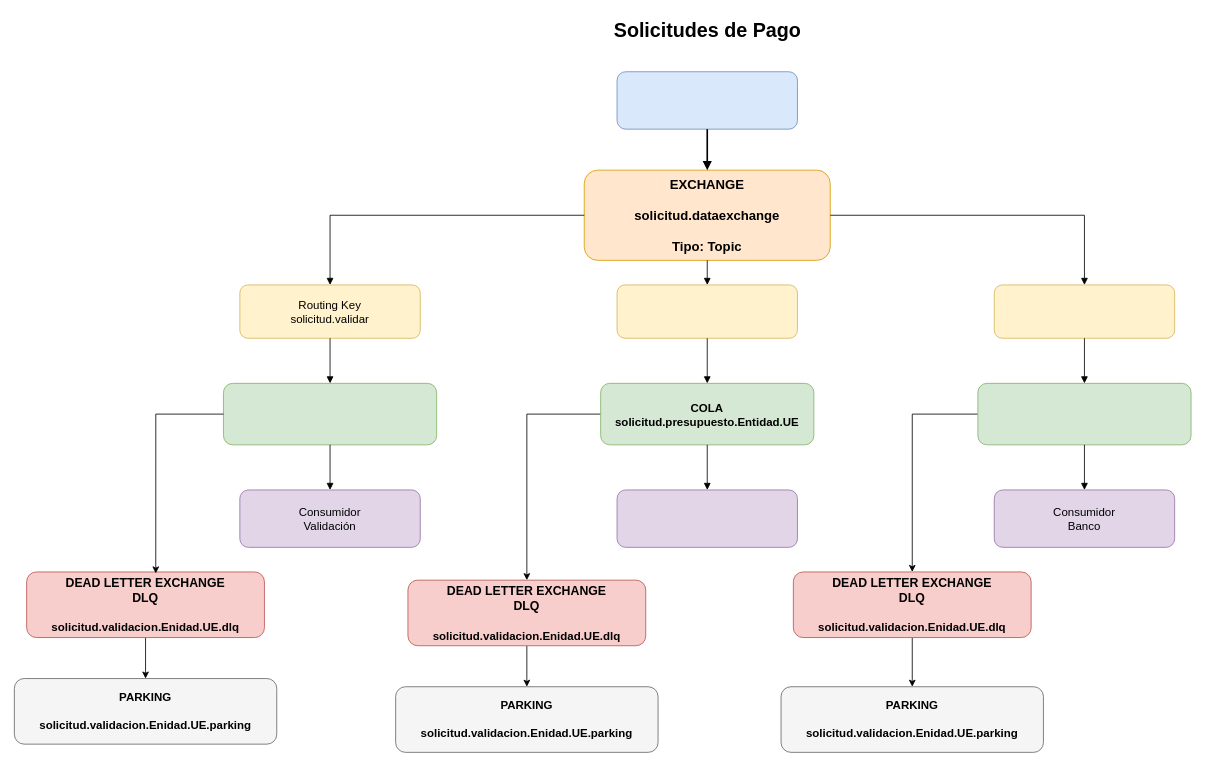
Image size: 1205x767. Some labels were removed from this diagram. The centre of each missing label's shape, as x and y in pixels:
COLA solicitud.pago.Entidad.UE: [1084,414]
COLA solicitud.validacion.Enidad.UE: [330,414]
Consumidor Presupuestaria: [706,518]
Productor: [706,100]
Routing Key solicitud.pagar: [1084,311]
Routing Key solicitud.reservar: [706,311]
